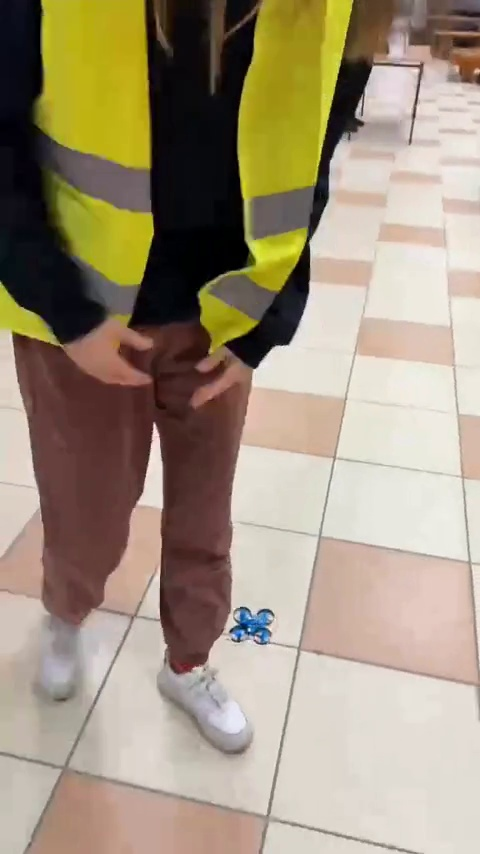drone: (230, 602, 277, 647)
vest: (0, 5, 357, 760)
